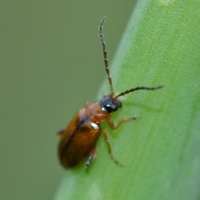insect: (58, 17, 162, 168)
